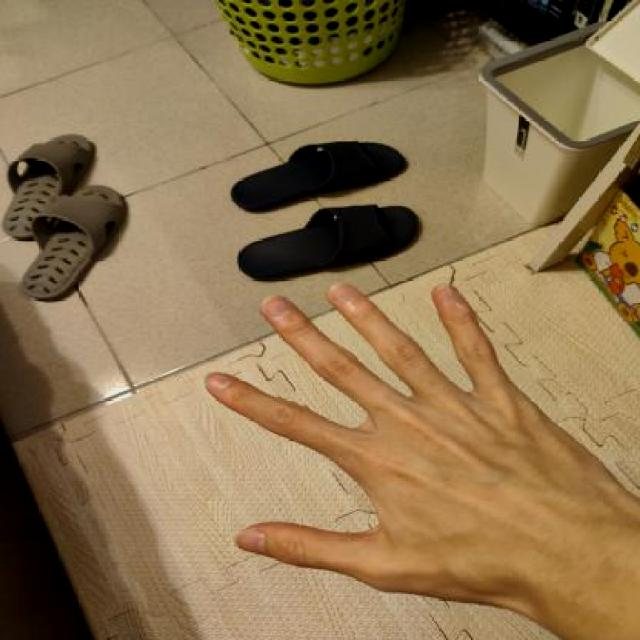no_glove: (191, 267, 638, 640)
